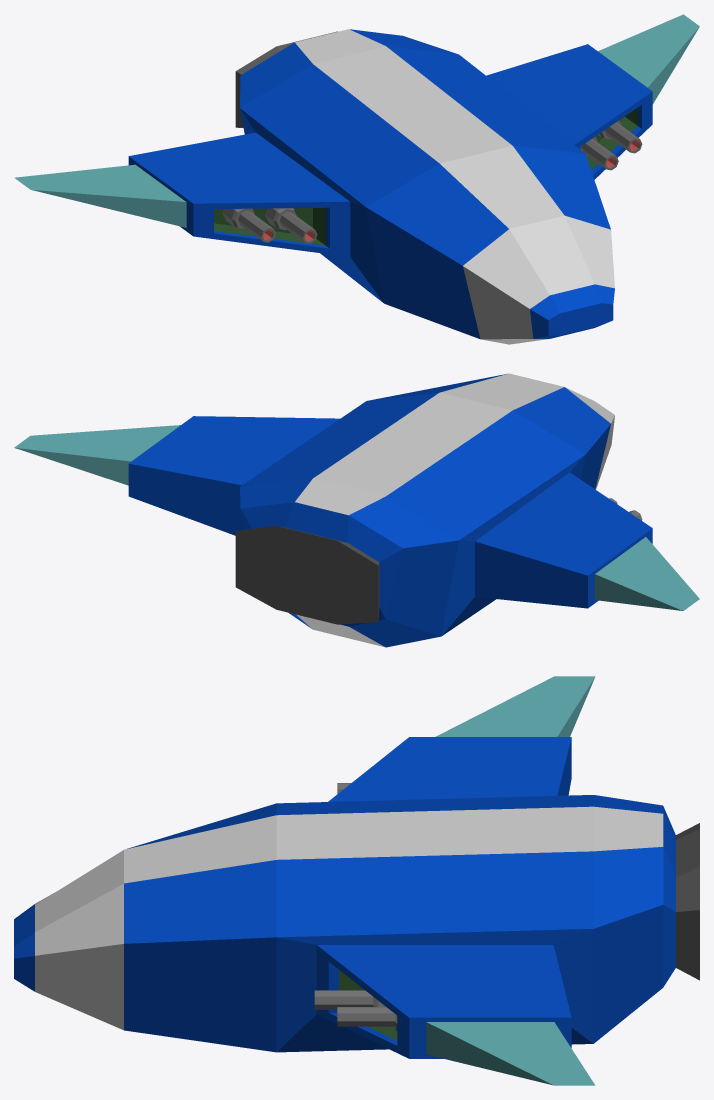
The model's file is spaceship.fbx.
3 renders of one model, top to bottom at view 1: azimuth 30°, elevation 25°; view 2: azimuth 150°, elevation 25°; view 3: azimuth 270°, elevation 25°, orthographic. The views are drawn at different scales.
Parts seen in each view (by area): view 1: spaceship_player; view 2: spaceship_player; view 3: spaceship_player.
Boxes of the visible parts, x1,y1,x2,y2 form: spaceship_player: (14, 14, 699, 344); spaceship_player: (14, 373, 699, 647); spaceship_player: (14, 676, 699, 1085).
Bounding box in the file's own units: 296 × 63.91 × 210.
